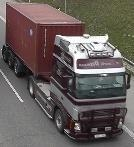truck: (4, 2, 132, 137)
